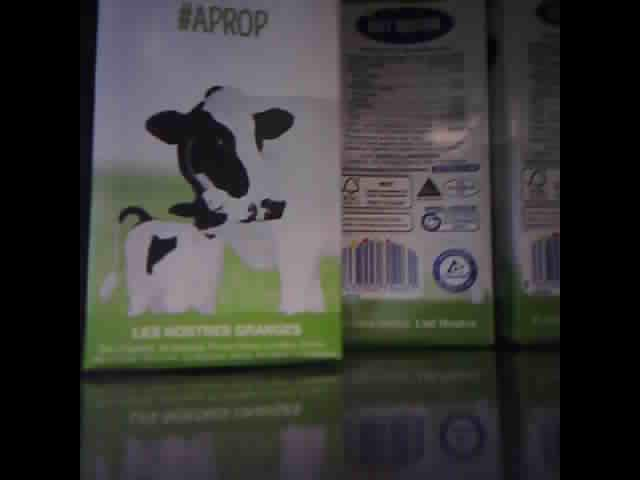leche: (81, 3, 339, 372), (338, 3, 488, 351), (501, 4, 560, 345)
